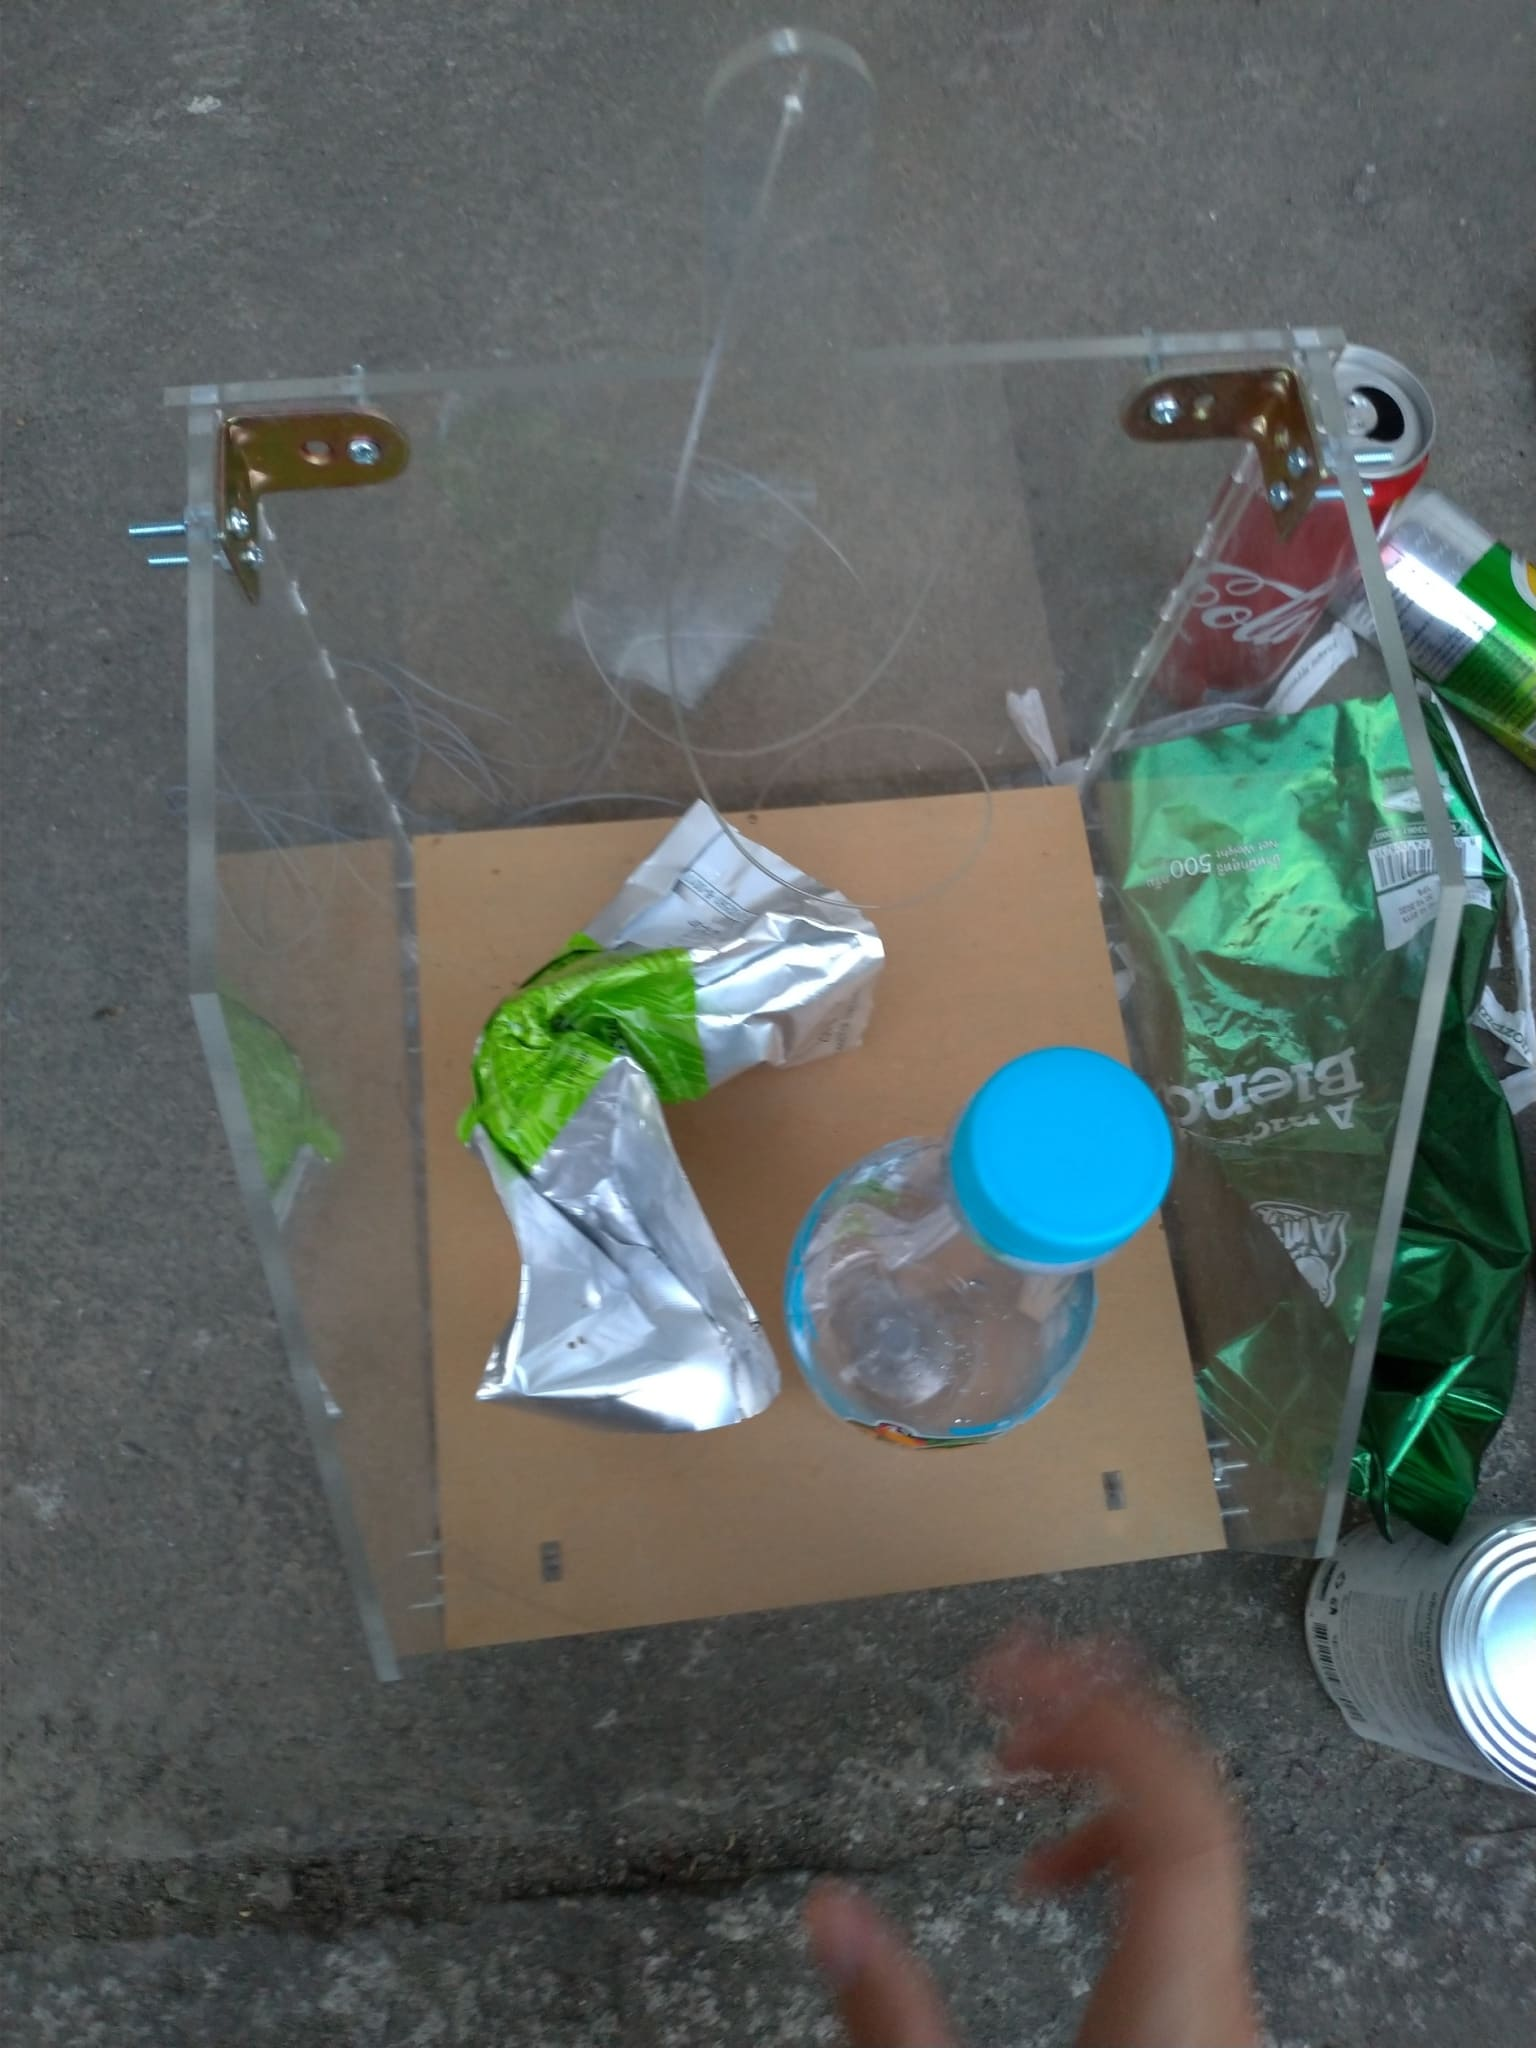AlCan: (1163, 342, 1434, 693), (1309, 1513, 1536, 1790), (1354, 490, 1536, 760)
Others: (1063, 703, 1536, 1521), (460, 800, 895, 1438)
PlasticBottle: (776, 1045, 1173, 1451)
